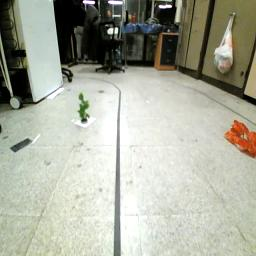herb: (77, 92, 96, 122)
wild: (224, 118, 256, 159)
